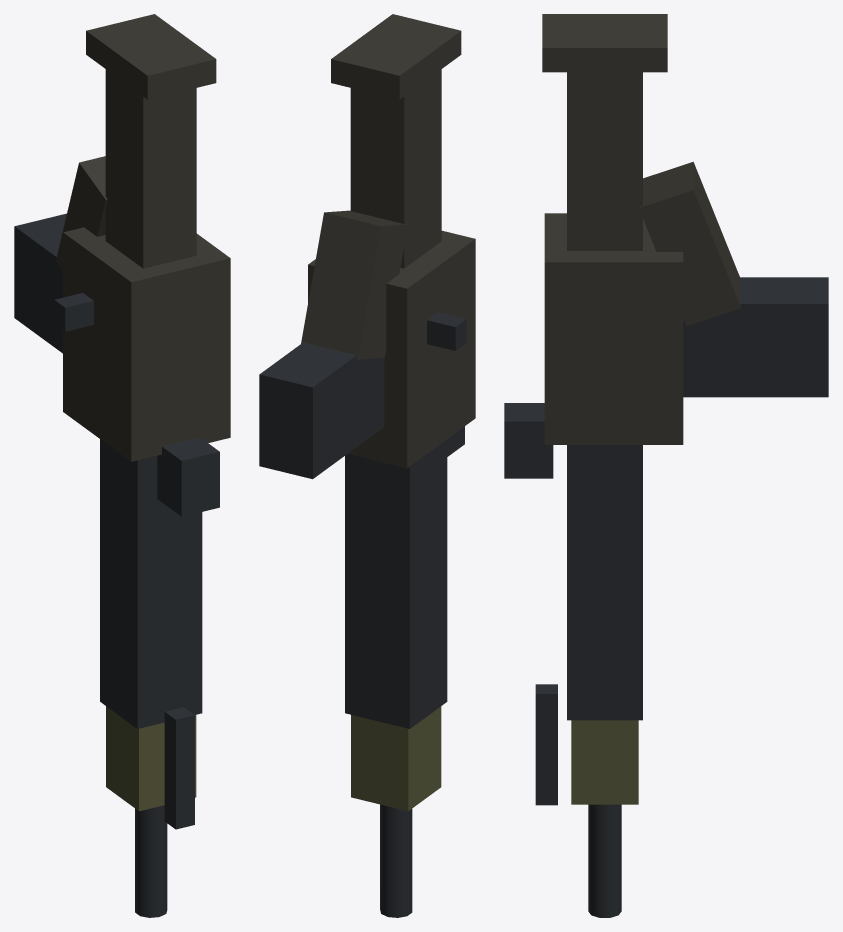
3 renders of one model, left to right at view 1: azimuth 30°, elevation 25°; view 2: azimuth 150°, elevation 25°; view 3: azimuth 270°, elevation 25°, orthographic.
Parts seen in each view (by area): view 1: batch:polymer, batch:gunmetal, batch:olive-furniture; view 2: batch:polymer, batch:gunmetal, batch:olive-furniture; view 3: batch:polymer, batch:gunmetal, batch:olive-furniture.
Boxes of the visible parts, box(x1,y1,x2,y2) form: batch:polymer: box(55, 14, 230, 461); batch:gunmetal: box(14, 213, 219, 917); batch:olive-furniture: box(106, 706, 196, 811); batch:polymer: box(301, 14, 475, 468); batch:gunmetal: box(259, 312, 466, 917); batch:olive-furniture: box(351, 706, 441, 811); batch:polymer: box(542, 14, 740, 444); batch:gunmetal: box(504, 277, 828, 917); batch:olive-furniture: box(571, 720, 638, 804).
Bounding box in the file's own units: 0.67 × 4.34 × 1.45.
